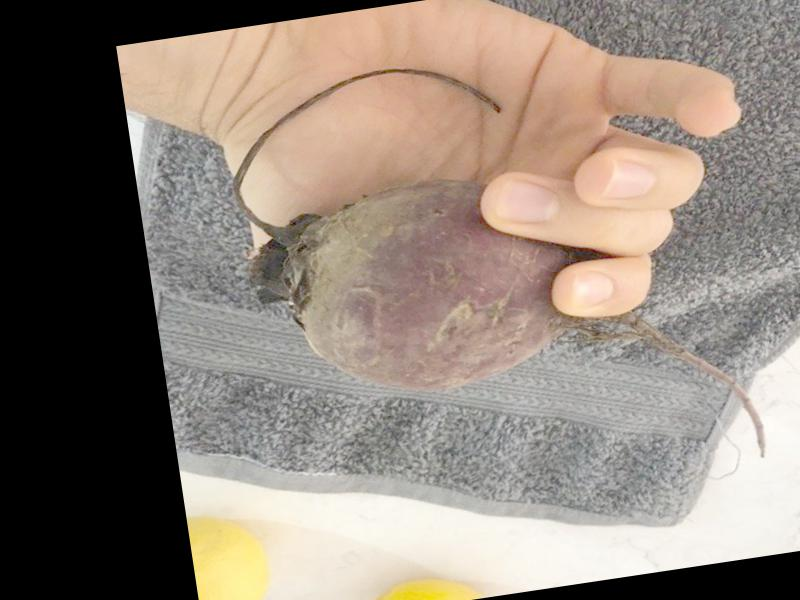Beet: (223, 21, 766, 528)
